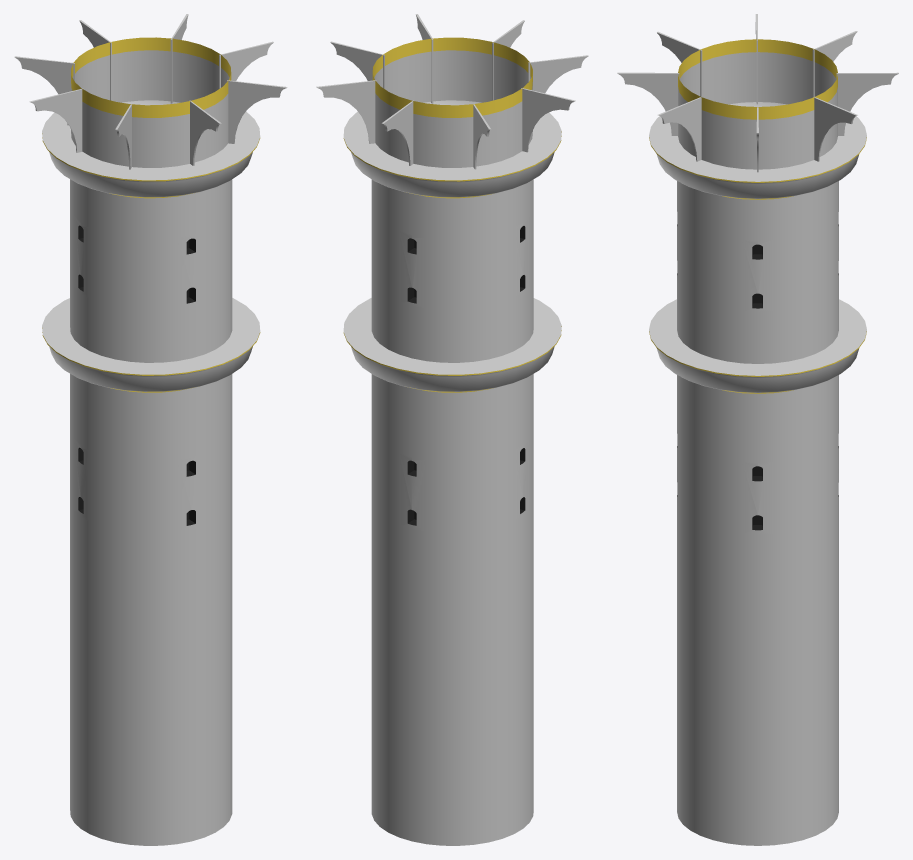
Rendered from tower_small_01.fbx.
3 views of the same model, side by side, from view 1: azimuth 30°, elevation 25°; view 2: azimuth 150°, elevation 25°; view 3: azimuth 270°, elevation 25° (orthographic).
Visible parts, largest first — view 1: tower_small_01.0; view 2: tower_small_01.0; view 3: tower_small_01.0.
Part boxes in pixels (left/top/right/bottom): tower_small_01.0: left=14, top=14, right=287, bottom=845; tower_small_01.0: left=316, top=14, right=588, bottom=845; tower_small_01.0: left=617, top=14, right=898, bottom=845.
Bounding box in the file's own units: 107 × 311 × 107.
